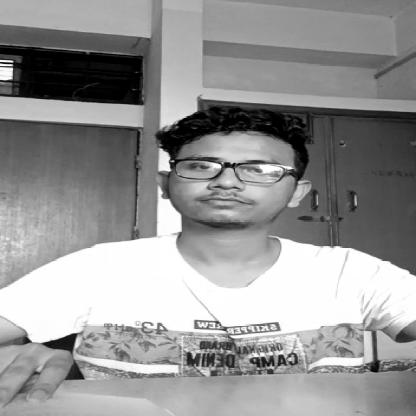Normal: (167, 106, 301, 230)
